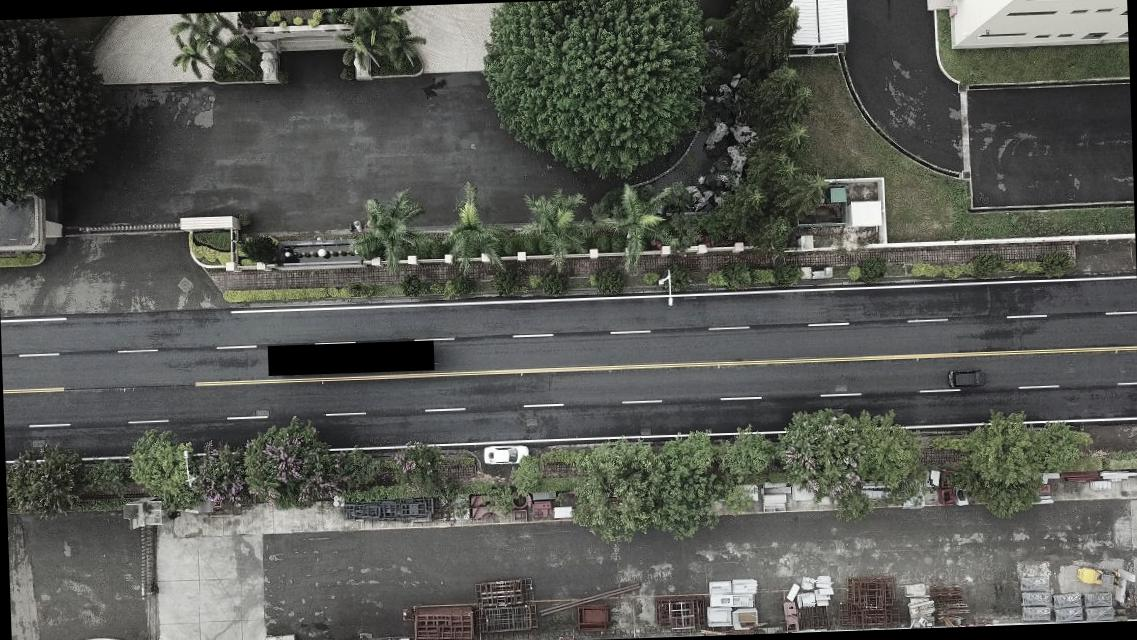vehicle: (480, 442, 529, 466), (946, 368, 986, 388)
